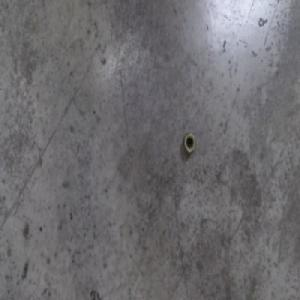Nut: (183, 131, 196, 155)
